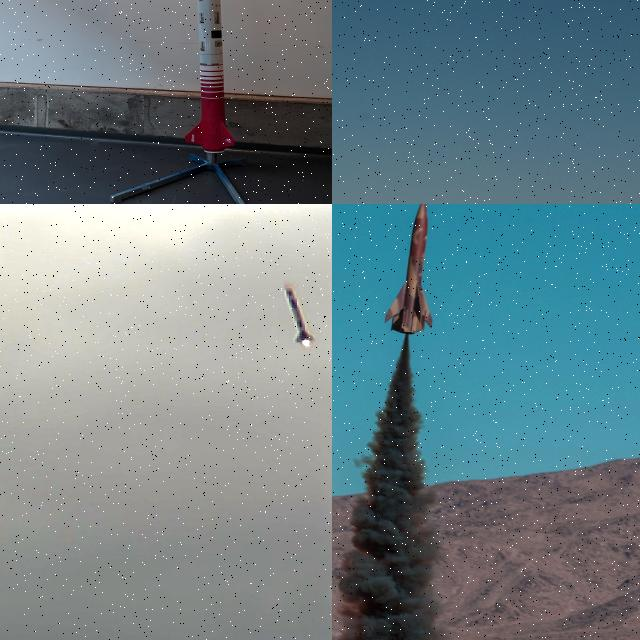Rocket: (184, 0, 235, 153), (383, 204, 434, 336), (283, 282, 316, 344)
